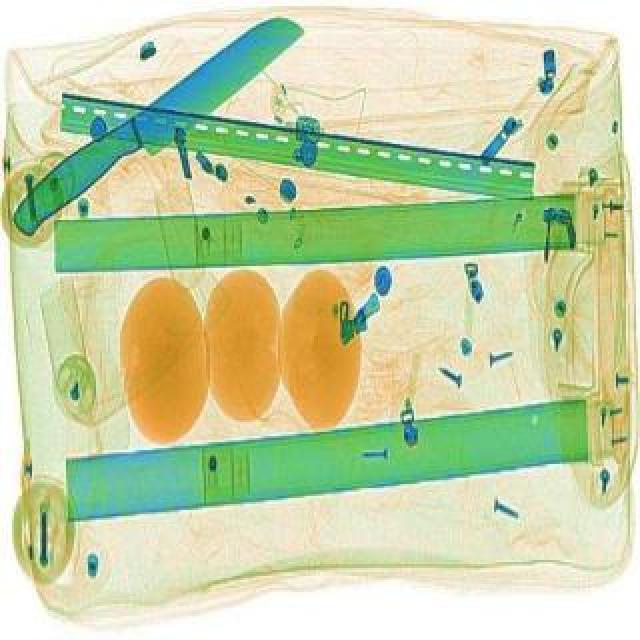knife: (0, 6, 316, 250)
